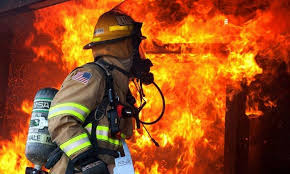emergent: (56, 10, 146, 174)
